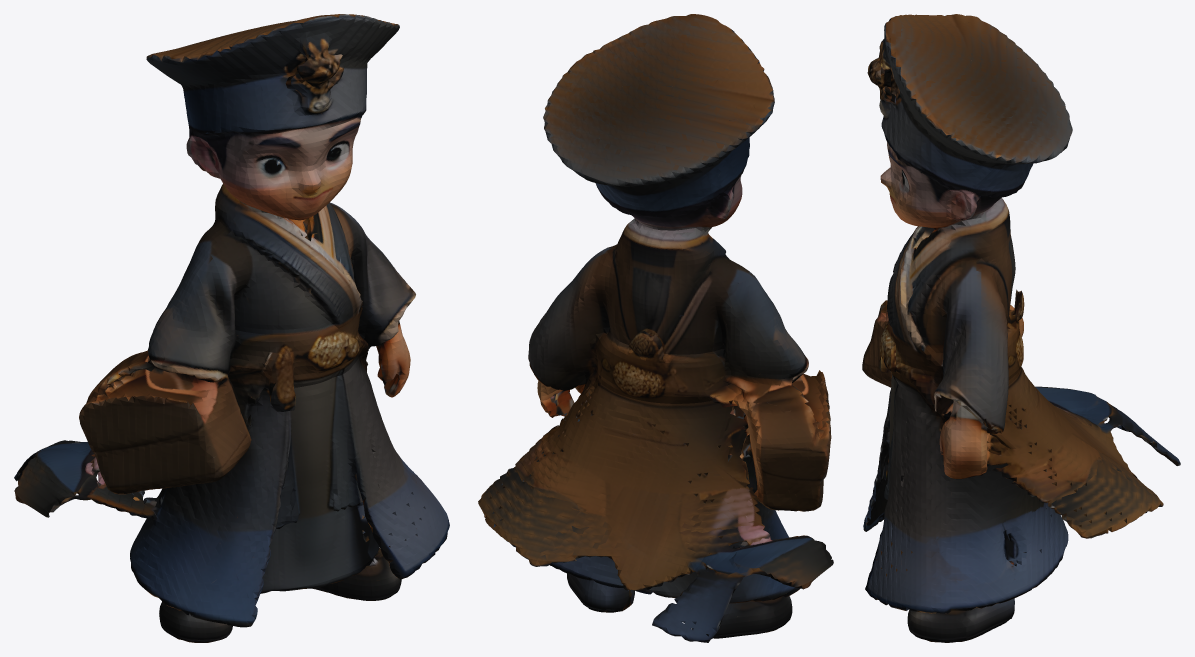
The model's file is body.glb.
3 views of the same model, side by side, from view 1: azimuth 30°, elevation 25°; view 2: azimuth 150°, elevation 25°; view 3: azimuth 270°, elevation 25° (orthographic). The views are drawn at different scales.
Parts seen in each view (by area): view 1: geometry_0; view 2: geometry_0; view 3: geometry_0.
Part boxes in pixels (box(x1,y1,x2,y2)): geometry_0: box(14, 14, 449, 642); geometry_0: box(478, 14, 833, 642); geometry_0: box(862, 14, 1180, 642).
Size of the model in its own units: 1.22 by 1.96 by 0.9944.
Materials: 1 (1 with a texture image).
